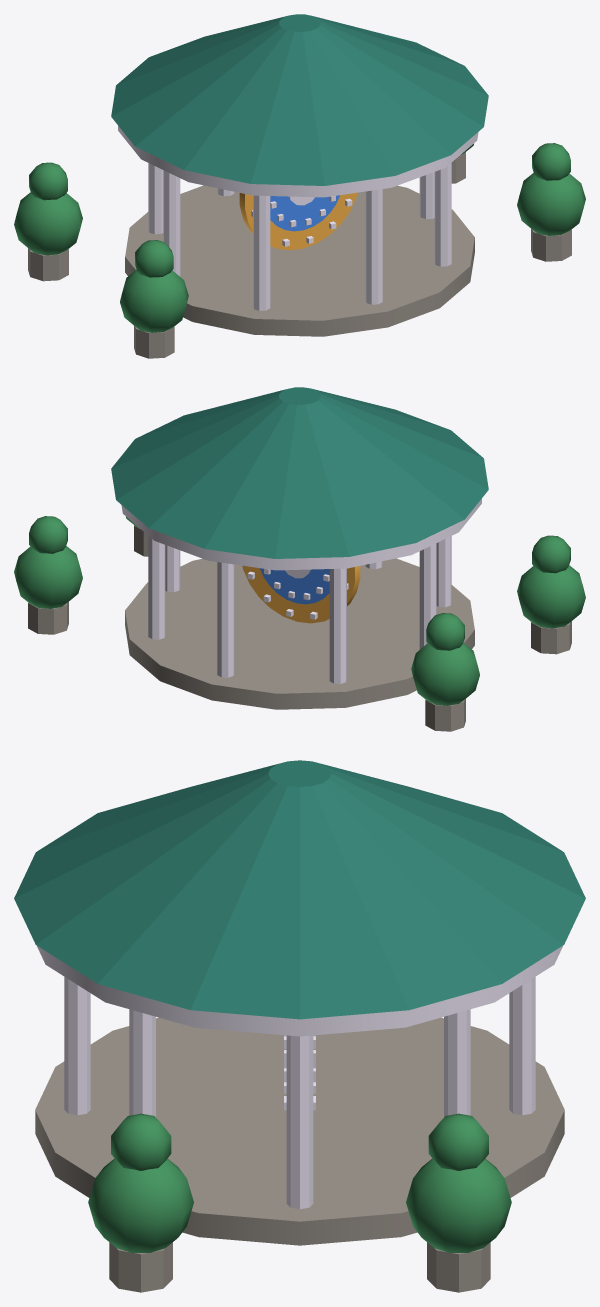
The model's file is bld_d6_d.glb.
3 views of the same model, one above another, from view 1: azimuth 30°, elevation 25°; view 2: azimuth 150°, elevation 25°; view 3: azimuth 270°, elevation 25° (orthographic). The views are drawn at different scales.
Parts seen in each view (by area): view 1: bld_d6_d; view 2: bld_d6_d; view 3: bld_d6_d.
Part boxes in pixels (box(x1,y1,x2,y2)): bld_d6_d: box(14, 14, 585, 358); bld_d6_d: box(14, 387, 585, 731); bld_d6_d: box(14, 760, 585, 1292).
Bounding box in the file's own units: 14.9 × 7.5 × 10.8.
